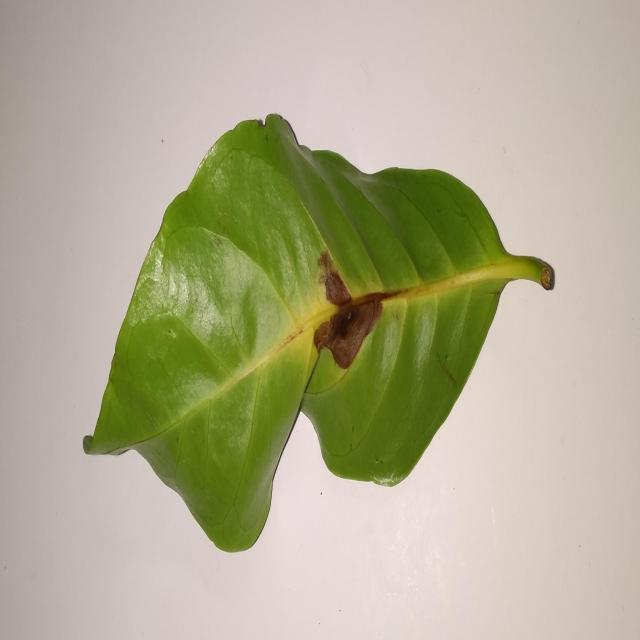Enfermedad-Antracnosis: (80, 114, 556, 556)
